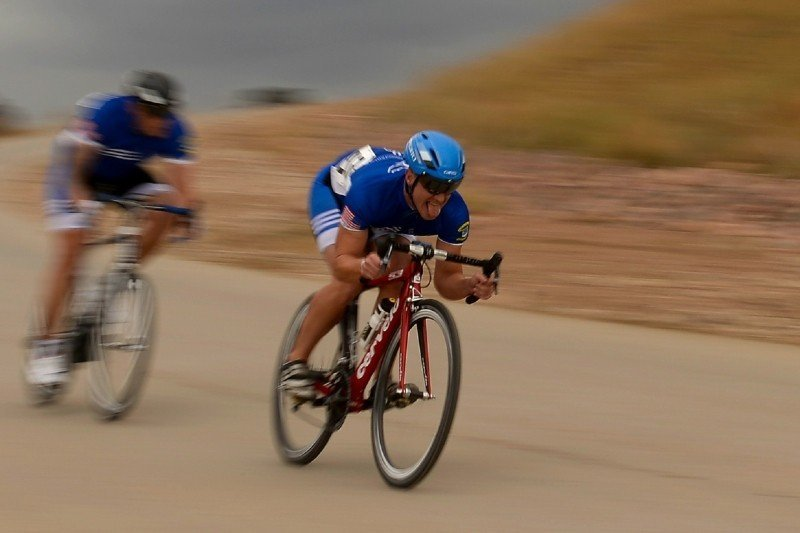helmet: (394, 120, 469, 190)
